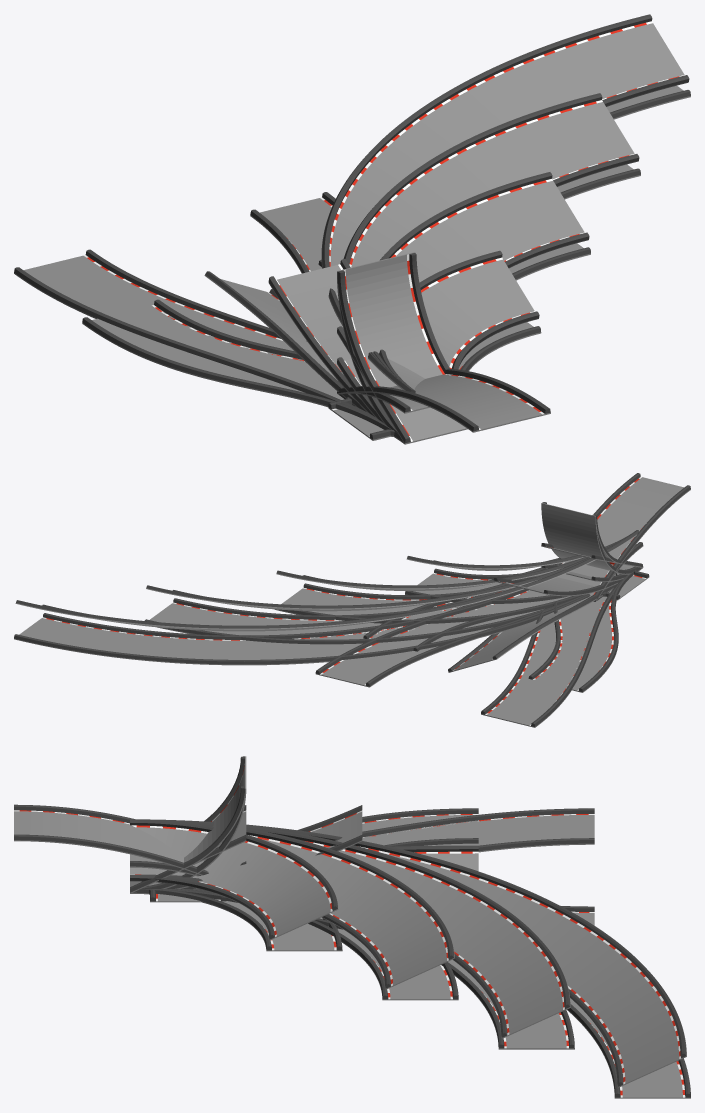
Rendered from road.glb.
3 renders of one model, top to bottom at view 1: azimuth 30°, elevation 25°; view 2: azimuth 150°, elevation 25°; view 3: azimuth 270°, elevation 25°, orthographic. The views are drawn at different scales.
Parts seen in each view (by area): view 1: TurnLong3Tilted, TurnLong2Tilted, IntersectionYLong, TurnLongTilted, SlopeToVertical, IntersectionY, TurnShortTilted, SlopeDownLong, SlopeUpLong, ToTilted, Slope, TurnSLong (+6 smaller); view 2: TurnLong3, IntersectionYLong, IntersectionY, TurnLong2, SlopeDownLong, TurnLong3Tilted, TurnLong, SlopeUpVertical, TurnSLong, TurnLong2Tilted, ToTilted, TurnShort (+4 smaller); view 3: TurnLong3Tilted, TurnLong2Tilted, TurnLongTilted, TurnShortTilted, IntersectionYLong, SlopeDownLong, IntersectionY, TurnLong, TurnLong3, TurnLong2, TurnShort, SlopeToVertical (+4 smaller).
Part boxes in pixels (x1,y1,x2,y2): TurnLong3Tilted: (321, 14, 689, 391); TurnLong2Tilted: (343, 93, 639, 383); IntersectionYLong: (14, 192, 378, 419); TurnLongTilted: (373, 172, 589, 384); SlopeToVertical: (337, 254, 466, 442); IntersectionY: (82, 260, 466, 444); TurnShortTilted: (379, 250, 539, 392); SlopeDownLong: (337, 368, 550, 432); SlopeUpLong: (268, 259, 374, 416); ToTilted: (204, 271, 366, 411); Slope: (337, 326, 462, 442); TurnSLong: (250, 192, 334, 273); TurnLong3: (14, 589, 590, 665); IntersectionYLong: (315, 578, 623, 727); IntersectionY: (364, 567, 643, 692); TurnLong2: (144, 591, 584, 644); SlopeDownLong: (555, 473, 690, 601); TurnLong3Tilted: (15, 530, 639, 631); TurnLong: (274, 583, 574, 623); SlopeUpVertical: (541, 502, 637, 574); TurnSLong: (315, 594, 587, 686); TurnLong2Tilted: (146, 538, 625, 611); ToTilted: (448, 584, 616, 672); TurnShort: (405, 568, 567, 603); TurnLong3Tilted: (148, 819, 686, 1087); TurnLong2Tilted: (145, 819, 570, 1038); TurnLongTilted: (142, 819, 454, 989); TurnShortTilted: (130, 819, 338, 940); IntersectionYLong: (179, 808, 594, 925); SlopeDownLong: (14, 804, 208, 875); IntersectionY: (174, 808, 478, 929); TurnLong: (163, 888, 458, 1000); TurnLong3: (181, 888, 690, 1098); TurnLong2: (181, 889, 574, 1049); TurnShort: (130, 889, 342, 951); SlopeToVertical: (130, 756, 246, 890).
Bounding box in the file's own units: 117 × 22.94 × 117.
